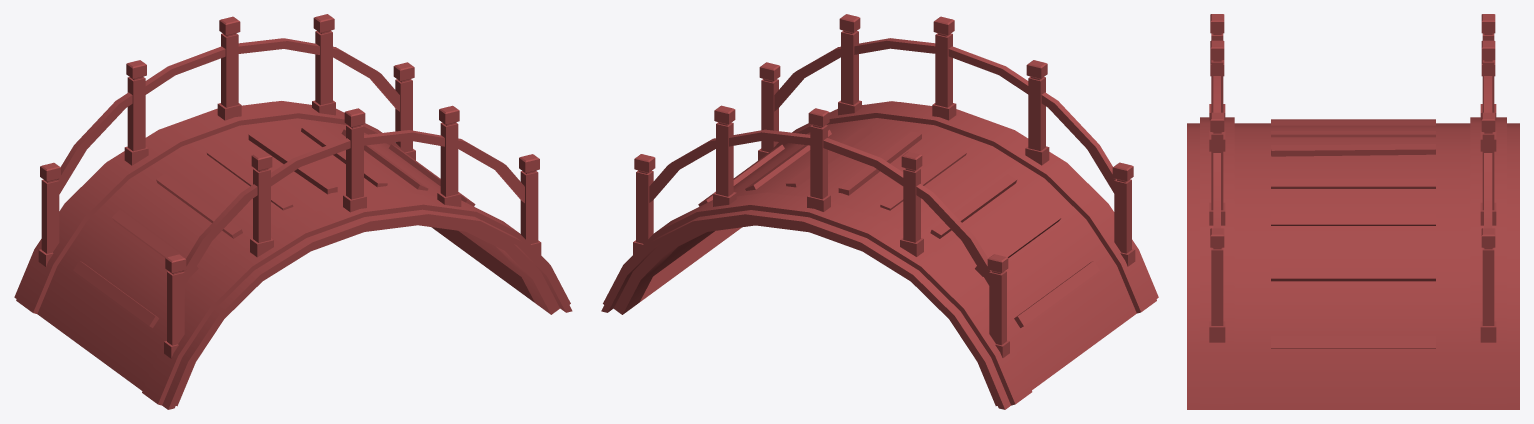
File: Hub Bridge 2.fbx
The picture shows the model from 3 angles, left to right: view 1: azimuth 30°, elevation 25°; view 2: azimuth 150°, elevation 25°; view 3: azimuth 270°, elevation 25°; orthographic projection. The views are drawn at different scales.
Parts seen in each view (by area): view 1: pCube43; view 2: pCube43; view 3: pCube43.
Part boxes in pixels (x1=…): pCube43: x1=14, y1=14, x2=572, y2=409; pCube43: x1=601, y1=14, x2=1158, y2=409; pCube43: x1=1187, y1=14, x2=1519, y2=409.
Bounding box in the file's own units: 1260 × 709 × 812.
